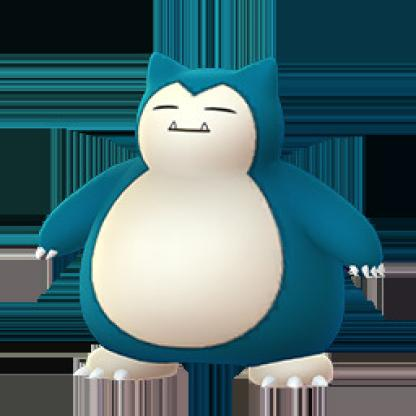Snorlax: (37, 52, 391, 397)
